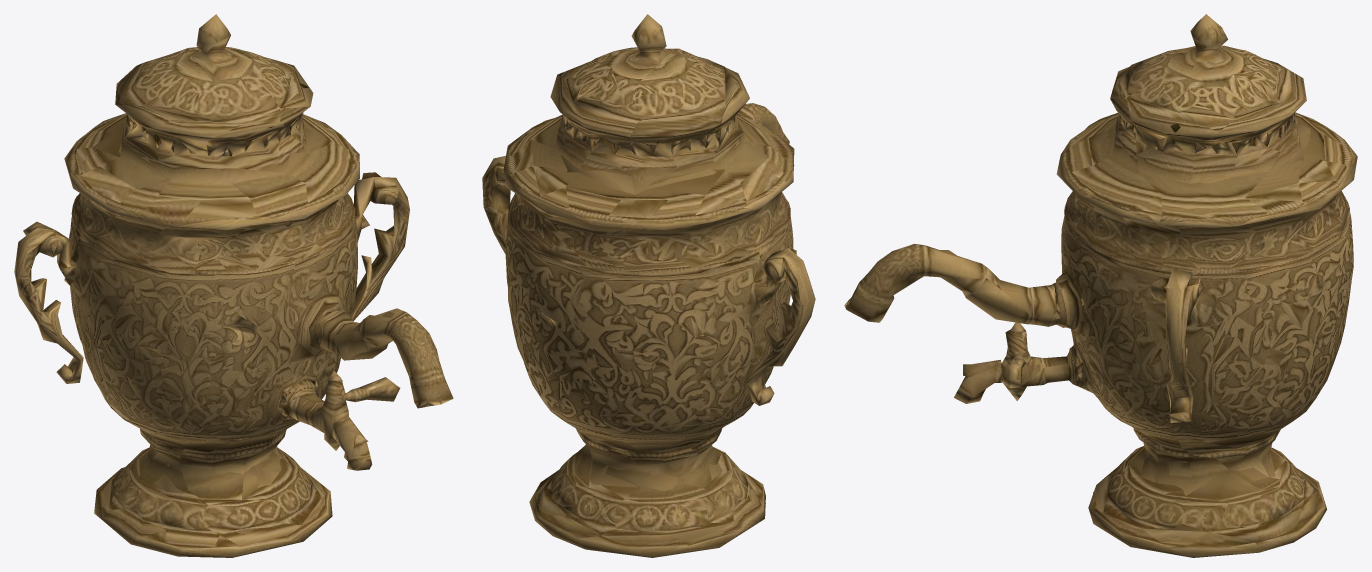
The model's file is samovar.glb.
The picture shows the model from 3 angles, left to right: view 1: azimuth 30°, elevation 25°; view 2: azimuth 150°, elevation 25°; view 3: azimuth 270°, elevation 25°; orthographic projection.
Parts seen in each view (by area): view 1: Mesh_0; view 2: Mesh_0; view 3: Mesh_0.
Boxes of the visible parts, box(x1,y1,x2,y2) form: Mesh_0: box(14, 14, 453, 557); Mesh_0: box(482, 14, 815, 557); Mesh_0: box(844, 14, 1357, 557).
Bounding box in the file's own units: 0.4638 × 0.6036 × 0.5677.
1 material, 1 textured.
